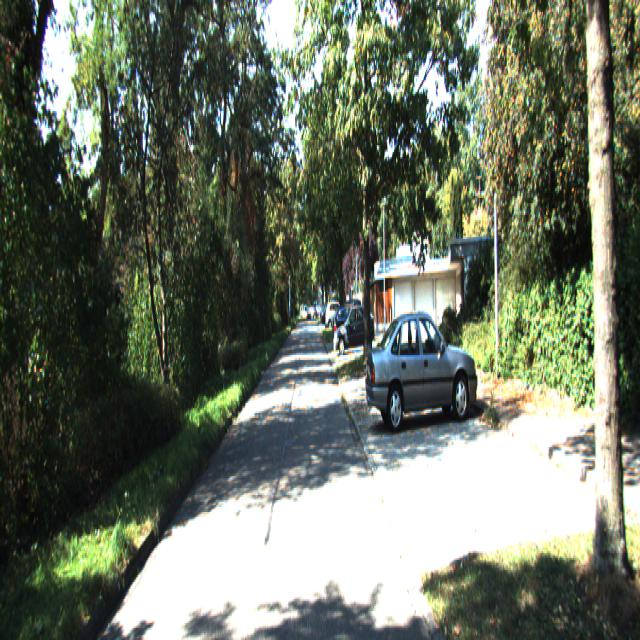Car: (364, 302, 480, 430), (334, 303, 376, 354)
